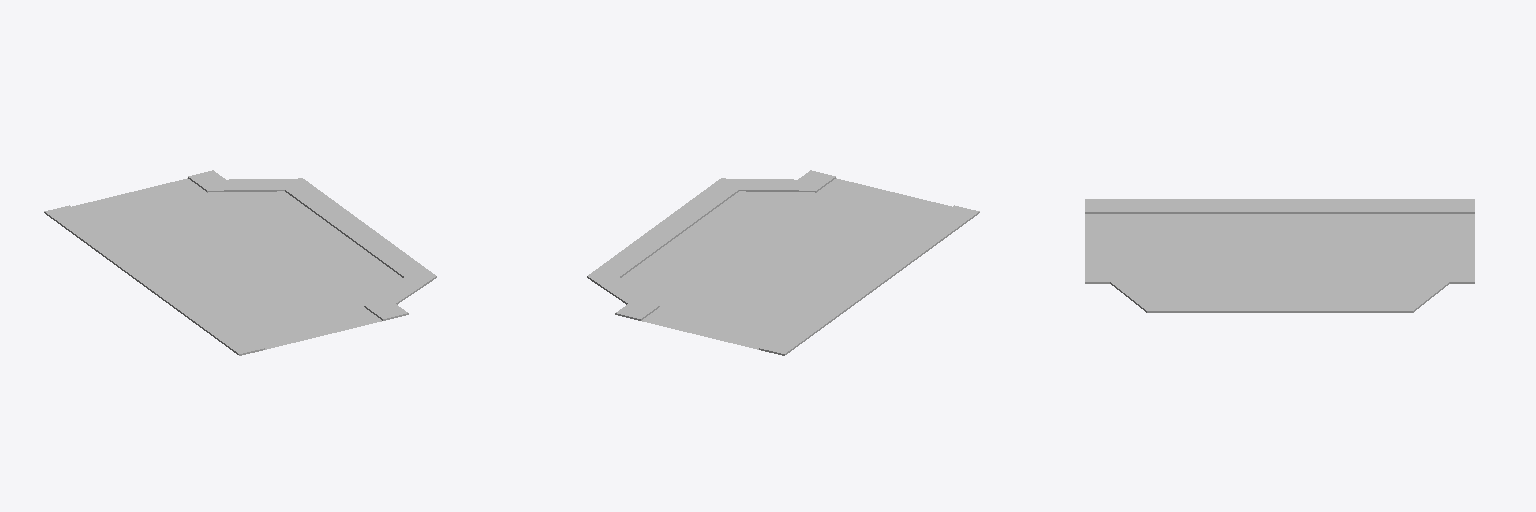
Rendered from Road Lane Bus Stop.obj.
3 views of the same model, side by side, from view 1: azimuth 30°, elevation 25°; view 2: azimuth 150°, elevation 25°; view 3: azimuth 270°, elevation 25° (orthographic).
Parts seen in each view (by area): view 1: Road_Lane_Bus_Stop; view 2: Road_Lane_Bus_Stop; view 3: Road_Lane_Bus_Stop.
Part boxes in pixels (x1,y1,x2,y2): Road_Lane_Bus_Stop: (44,170,436,355); Road_Lane_Bus_Stop: (587,170,979,355); Road_Lane_Bus_Stop: (1085,199,1474,312).
Bounding box in the file's own units: 1063 × 7.87 × 1575.